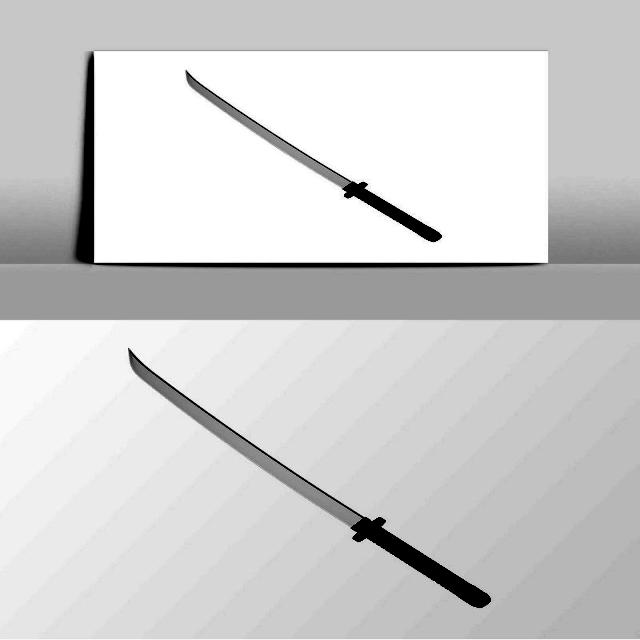long sword: (112, 350, 522, 612), (176, 65, 460, 238)
